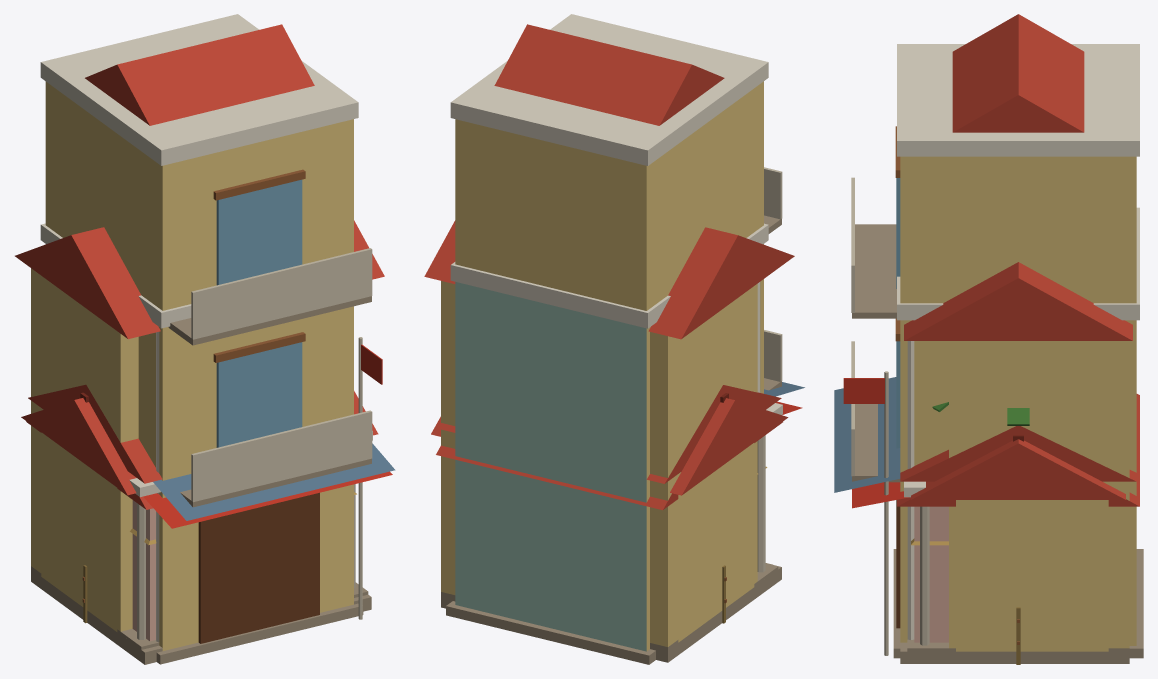
The model's file is village.glb.
3 views of the same model, side by side, from view 1: azimuth 30°, elevation 25°; view 2: azimuth 150°, elevation 25°; view 3: azimuth 270°, elevation 25° (orthographic).
Visible parts, largest first — view 1: nha-ong-2-lau, uy-ban, truong-lang, nha-ong-1-lau, tiem-tap-hoa; view 2: nha-ong-2-lau, nha-ong-1-lau, uy-ban, truong-lang, tiem-tap-hoa, nha-cap4; view 3: nha-ong-2-lau, uy-ban, truong-lang, nha-ong-1-lau, tiem-tap-hoa, nha-cap4, cay-dua.
Part boxes in pixels (x1,y1,x2,y2): nha-ong-2-lau: (40, 14, 372, 664); uy-ban: (15, 220, 384, 649); truong-lang: (21, 337, 382, 664); nha-ong-1-lau: (40, 223, 395, 655); tiem-tap-hoa: (28, 384, 392, 641); nha-ong-2-lau: (446, 14, 782, 664); nha-ong-1-lau: (450, 223, 804, 651); uy-ban: (424, 220, 794, 662); truong-lang: (431, 398, 788, 654); tiem-tap-hoa: (437, 385, 802, 483); nha-cap4: (436, 393, 782, 510); nha-ong-2-lau: (851, 14, 1143, 658); uy-ban: (904, 262, 1132, 663); truong-lang: (843, 371, 1125, 663); nha-ong-1-lau: (834, 207, 1143, 648); tiem-tap-hoa: (852, 426, 1136, 642); nha-cap4: (897, 394, 1139, 506); cay-dua: (932, 402, 1029, 425).
Size of the model in its own units: 4.35 by 8.81 by 4.45.
